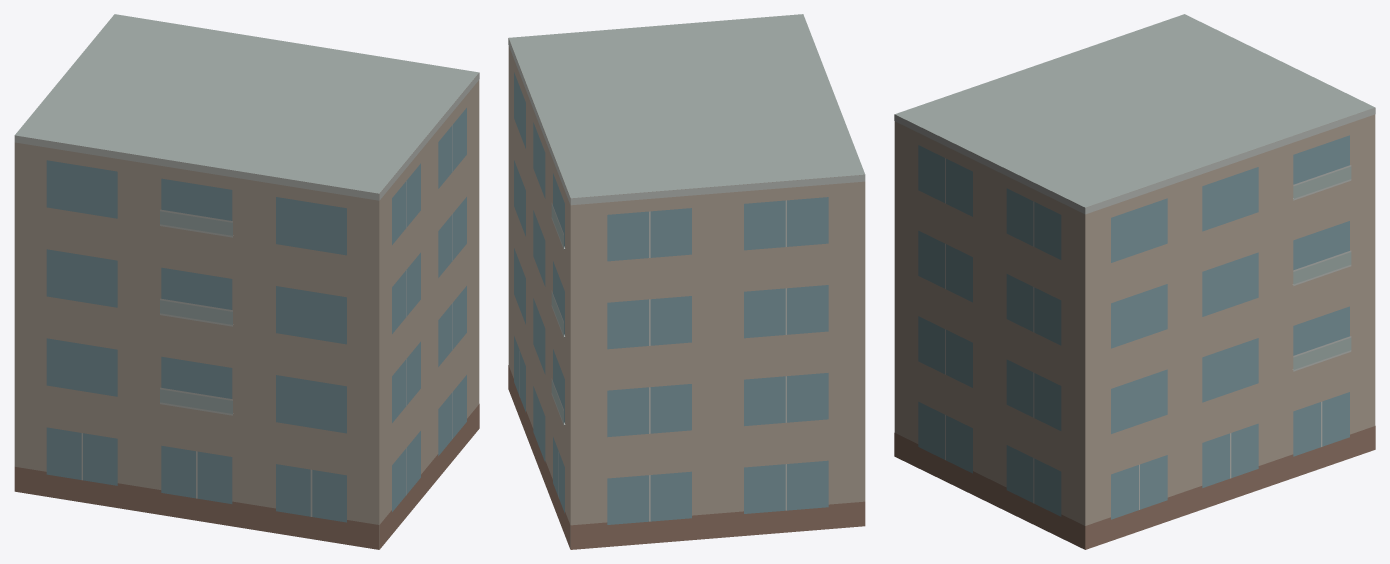
File: survey-upis-32917260.glb
The picture shows the model from 3 angles, left to right: view 1: azimuth 30°, elevation 25°; view 2: azimuth 150°, elevation 25°; view 3: azimuth 270°, elevation 25°; orthographic projection. The views are drawn at different scales.
Visible parts, largest first — view 1: survey-upis-32917260.tmp; view 2: survey-upis-32917260.tmp; view 3: survey-upis-32917260.tmp.
Boxes of the visible parts, bbox=[...] form: survey-upis-32917260.tmp: bbox=[14, 14, 479, 549]; survey-upis-32917260.tmp: bbox=[508, 14, 865, 549]; survey-upis-32917260.tmp: bbox=[894, 14, 1375, 549].
Size of the model in its own units: 14.94 by 12.3 by 15.68.
